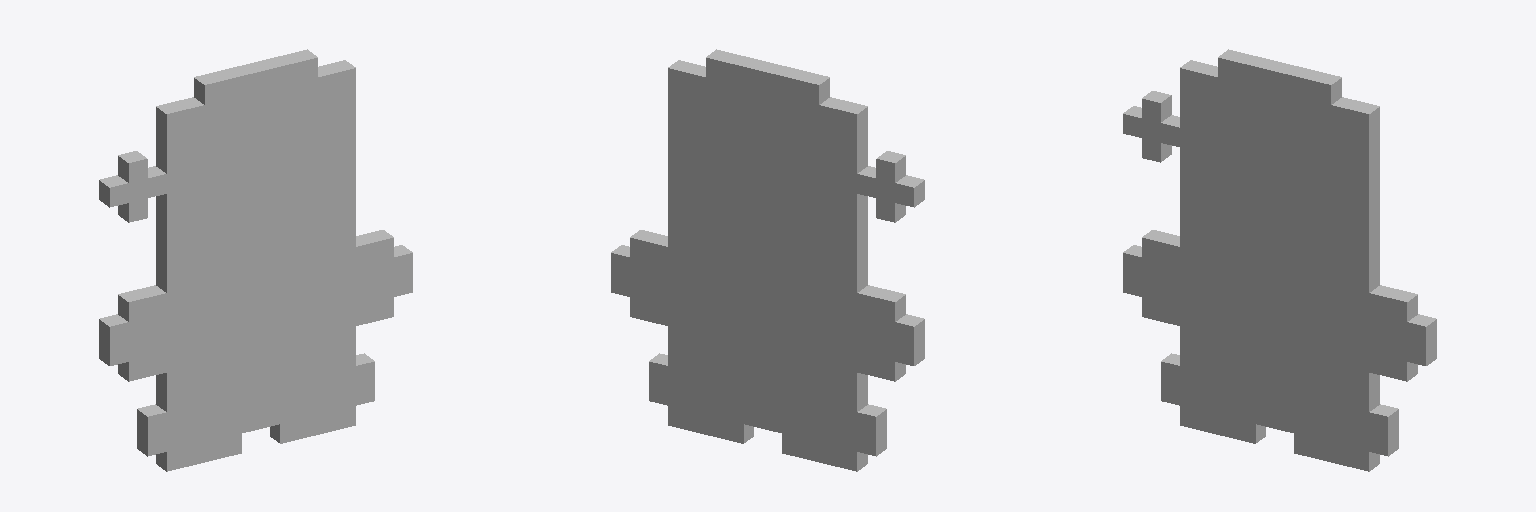
The model's file is boy walk 1.obj.
The picture shows the model from 3 angles: view 1: azimuth 30°, elevation 25°; view 2: azimuth 150°, elevation 25°; view 3: azimuth 330°, elevation 25°; orthographic projection.
Parts seen in each view (by area): view 1: object 1; view 2: object 1; view 3: object 1.
Boxes of the visible parts, x1,y1,x2,y2 form: object 1: [99, 49, 412, 471]; object 1: [611, 49, 924, 471]; object 1: [1123, 49, 1436, 471].
Size of the model in its own units: 1.6 by 1.9 by 0.1.